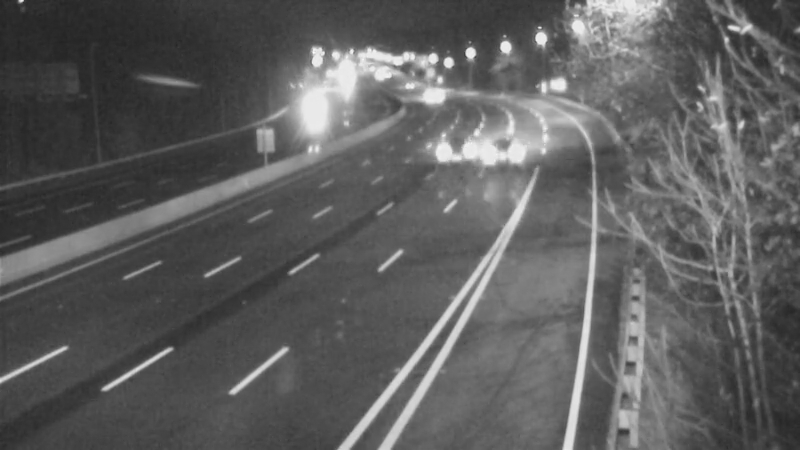vehicle: (457, 112, 537, 192), (378, 60, 428, 110), (400, 68, 450, 118), (428, 119, 478, 169), (288, 83, 338, 133)
